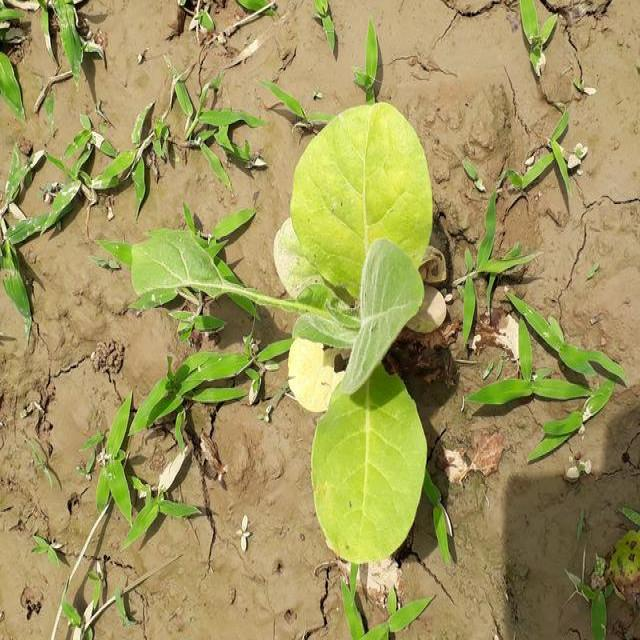crop: (139, 103, 435, 550)
